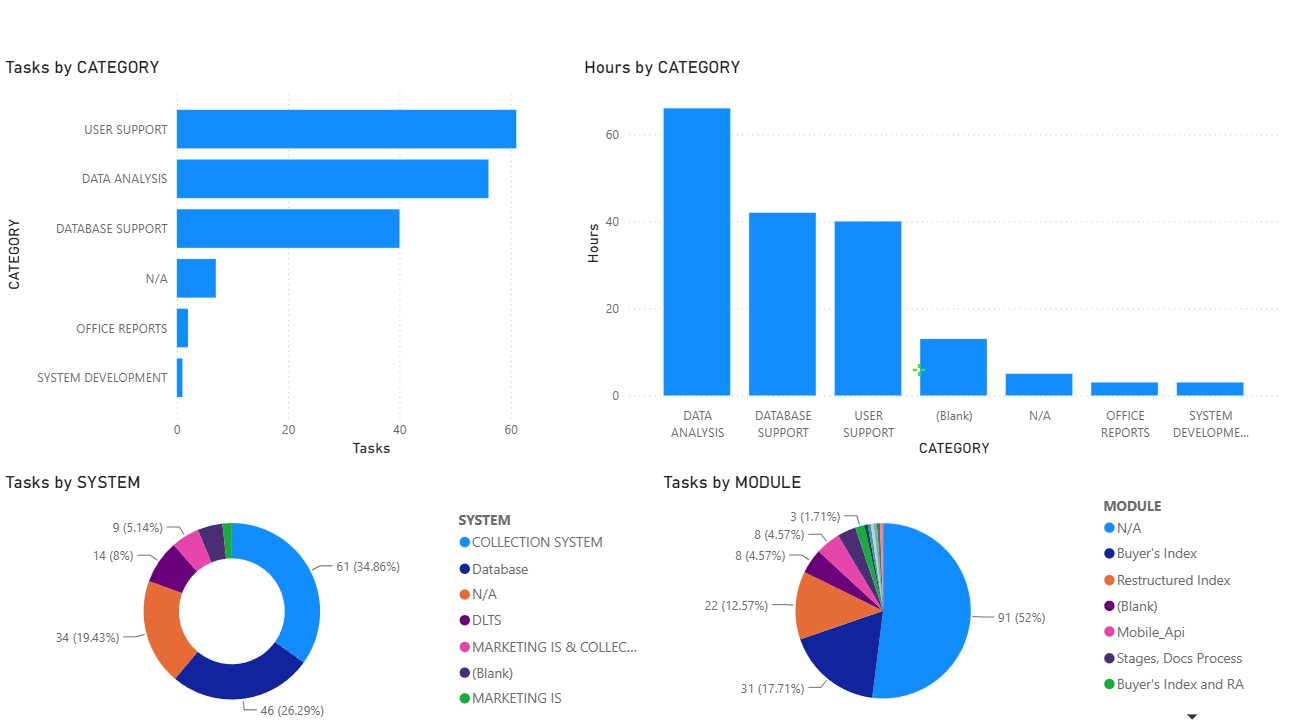

The page's visual inventory and layout, read from the dashboard file:
{"tool":"powerbi","page":{"name":"Working Analysis","canvas":[1280,720],"ordinal":1},"visuals":[{"type":"clusteredBarChart","fields":{"Category":["ITDAR.CATEGORY"],"Y":["CountNonNull(ITDAR.CATEGORY)"]},"box":[0,65.5,562.9,393.3],"z":0},{"type":"columnChart","fields":{"Category":["ITDAR.CATEGORY"],"Y":["Calendar.Total Hours"]},"box":[562.9,65.5,686.3,393.3],"z":1000},{"type":"donutChart","fields":{"Category":["ITDAR.SYSTEM"],"Y":["Calendar.Total Tasks"]},"box":[0,468.7,640,252],"z":2000},{"type":"pieChart","fields":{"Category":["ITDAR.MODULE"],"Y":["Calendar.Total Tasks"]},"box":[640,469,609,251],"z":3000}]}

Visuals, with their boxes in screenshot pixels (x1, y1, x2, y2), scaled from the page's 1280x720 canvas onto the 1306x722 screenshot:
clusteredBarChart - ITDAR.CATEGORY x CountNonNull(ITDAR.CATEGORY): 0/66/574/460
columnChart - ITDAR.CATEGORY x Calendar.Total Hours: 574/66/1275/460
donutChart - ITDAR.SYSTEM x Calendar.Total Tasks: 0/470/653/721
pieChart - ITDAR.MODULE x Calendar.Total Tasks: 653/470/1274/721
